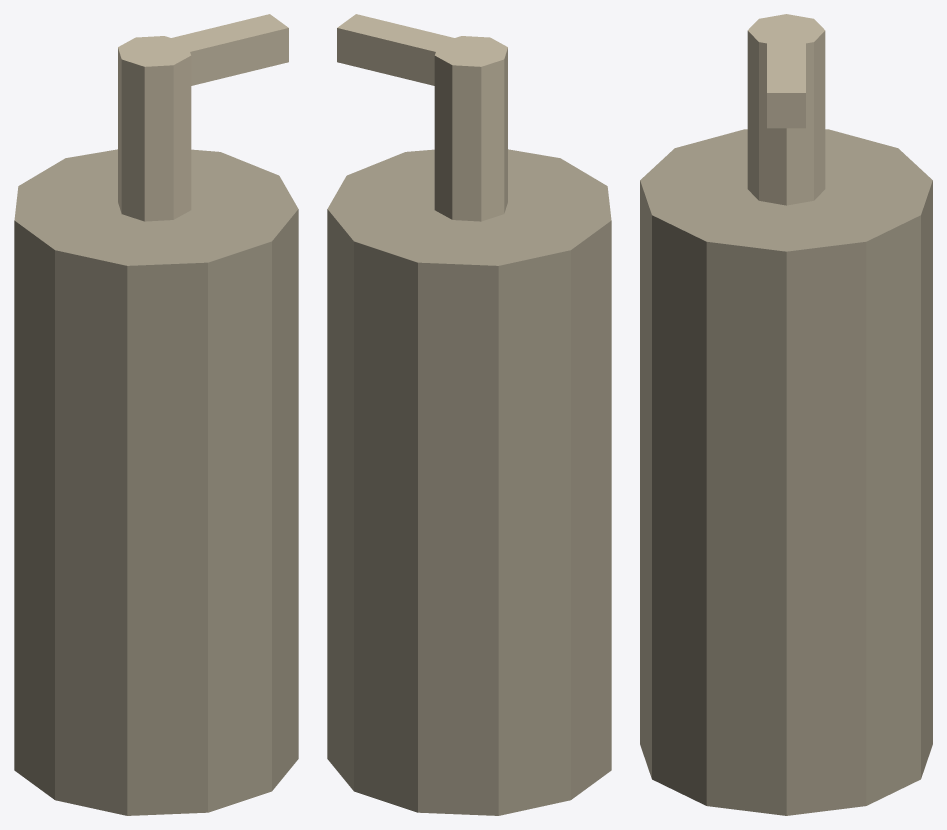
Rendered from pump-bottle.glb.
The picture shows the model from 3 angles, left to right: view 1: azimuth 30°, elevation 25°; view 2: azimuth 150°, elevation 25°; view 3: azimuth 270°, elevation 25°; orthographic projection. The views are drawn at different scales.
Parts seen in each view (by area): view 1: plastic-light, paper; view 2: plastic-light, paper; view 3: plastic-light, paper.
Boxes of the visible parts, x1,y1,x2,y2 form: plastic-light: (14,149,298,815); paper: (118,14,288,221); plastic-light: (327,149,611,815); paper: (337,14,507,221); plastic-light: (640,129,932,815); paper: (747,14,825,205).
Size of the model in its own units: 0.0745 by 0.205 by 0.0752.
